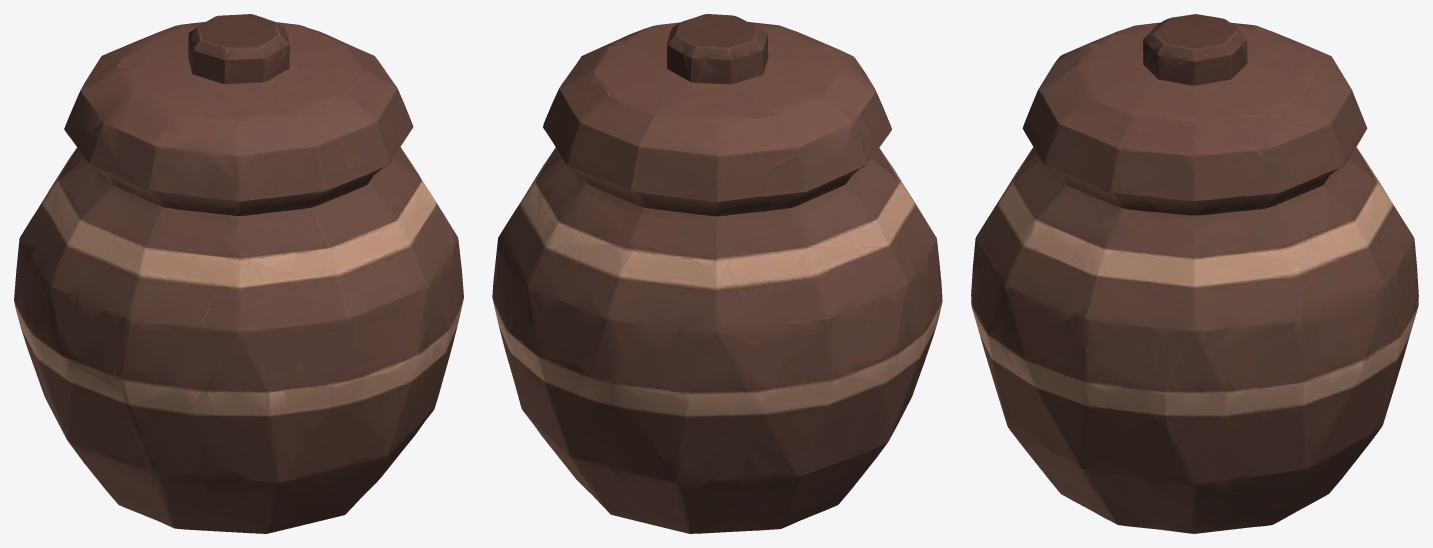
The model's file is onggi.glb.
3 views of the same model, side by side, from view 1: azimuth 30°, elevation 25°; view 2: azimuth 150°, elevation 25°; view 3: azimuth 270°, elevation 25° (orthographic).
Parts seen in each view (by area): view 1: Mesh_0; view 2: Mesh_0; view 3: Mesh_0.
Boxes of the visible parts, x1,y1,x2,y2 form: Mesh_0: [14, 14, 463, 533]; Mesh_0: [492, 14, 942, 533]; Mesh_0: [971, 14, 1418, 533].
Bounding box in the file's own units: 1.8 × 2 × 1.83.
1 material, 1 textured.
